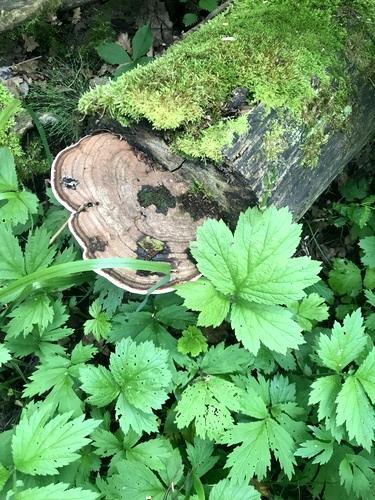Ganoderma - Fruit Body: (52, 122, 256, 295)
